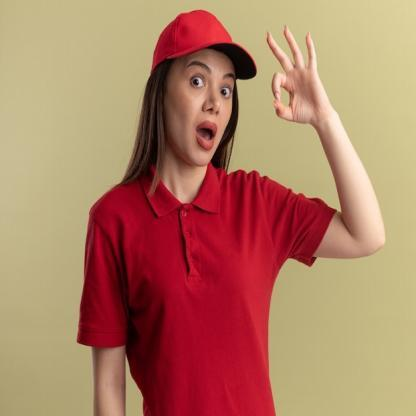ok: (263, 21, 323, 125)
